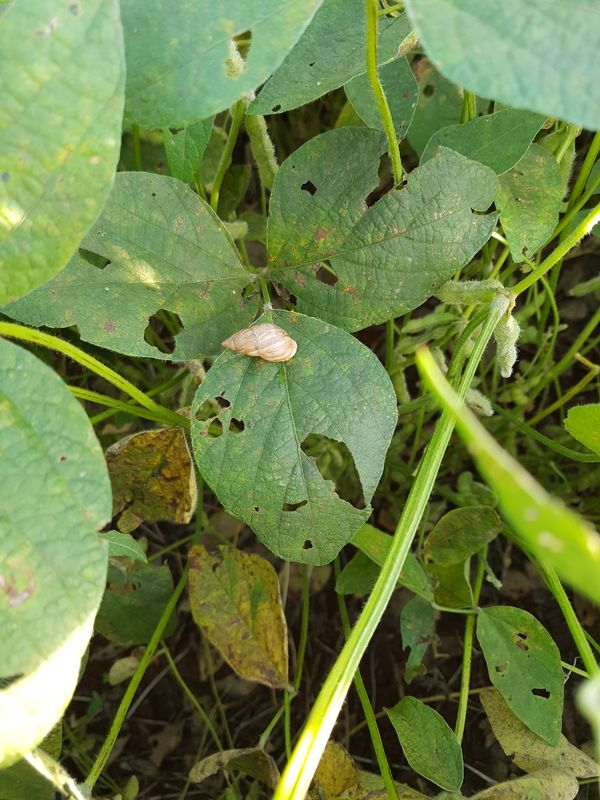Gastropoda: (213, 309, 307, 384)
